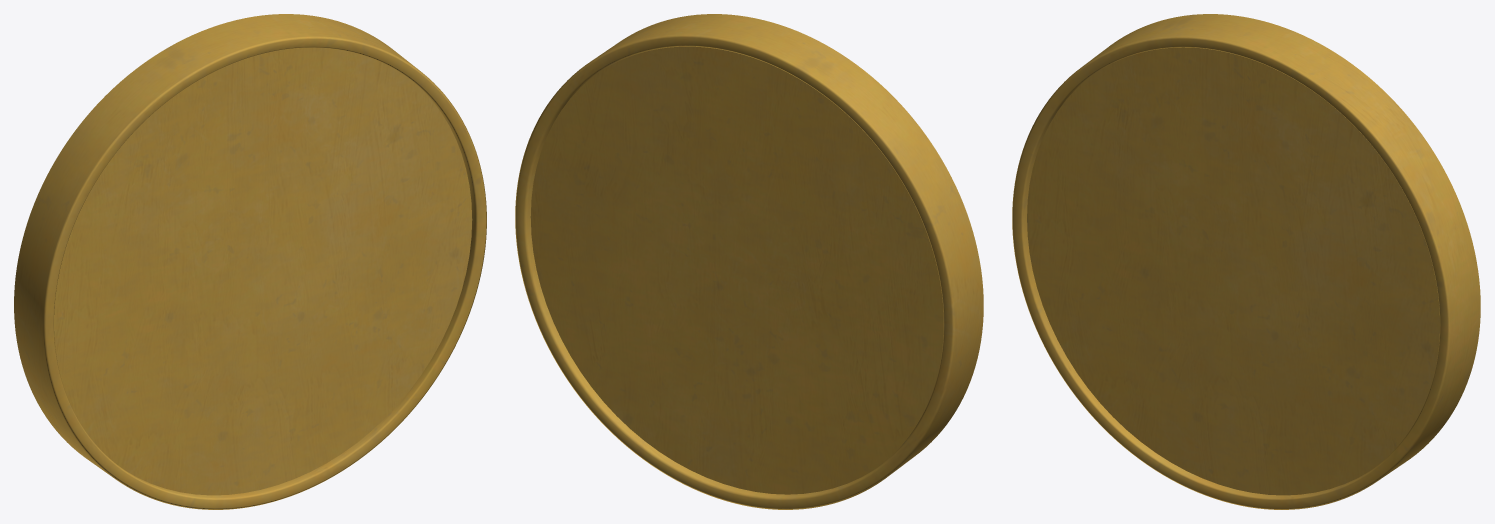
Rendered from Static.fbx.
3 renders of one model, left to right at view 1: azimuth 30°, elevation 25°; view 2: azimuth 150°, elevation 25°; view 3: azimuth 330°, elevation 25°, orthographic.
Visible parts, largest first — view 1: Coin_Static; view 2: Coin_Static; view 3: Coin_Static.
Boxes of the visible parts, x1,y1,x2,y2 form: Coin_Static: (14,14,486,509); Coin_Static: (515,14,983,509); Coin_Static: (1012,14,1480,509).
Size of the model in its own units: 12.36 by 12.36 by 1.61.
Materials: 1 (1 with a texture image).
